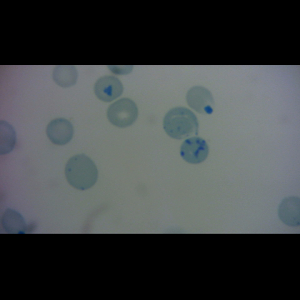aggregate reticulocyte: (179, 136, 209, 165)
erythrocyte: (105, 96, 140, 129), (185, 85, 217, 117), (45, 117, 75, 147), (93, 75, 125, 103), (52, 65, 80, 89)
punctate reticulocyte: (63, 152, 99, 192), (162, 106, 200, 141)
